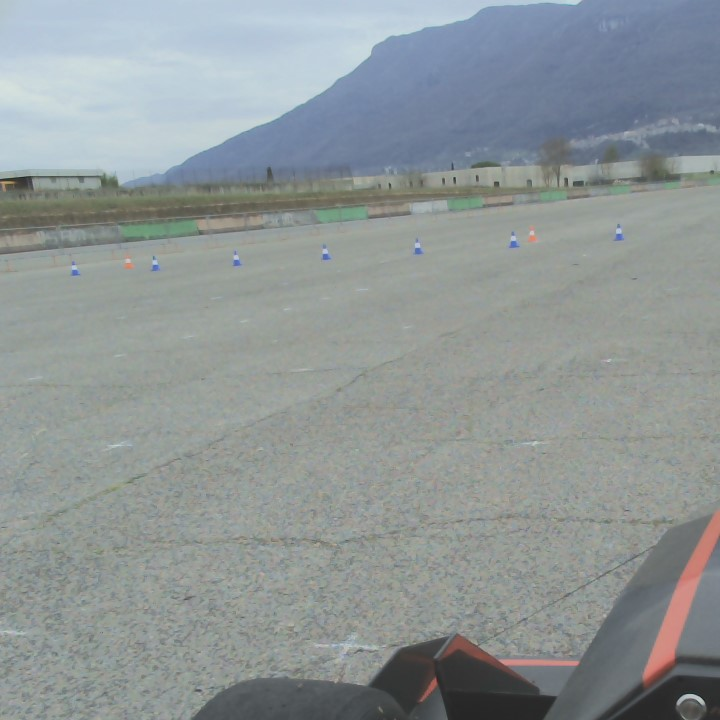cone: (70, 259, 79, 277), (321, 244, 330, 261), (232, 251, 242, 266), (412, 240, 422, 255), (150, 254, 159, 270), (614, 224, 622, 241), (509, 234, 519, 247)
